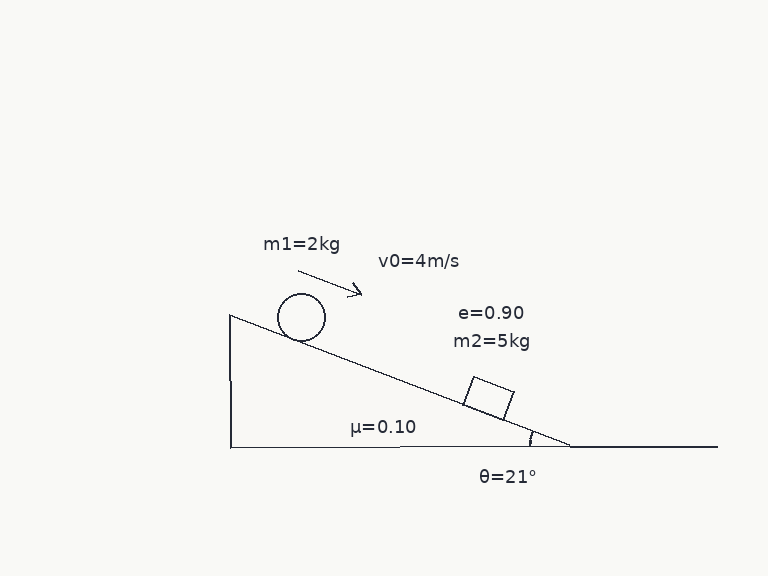ball: (275, 291, 327, 343)
block: (461, 374, 515, 422)
ramp: (227, 313, 572, 448)
